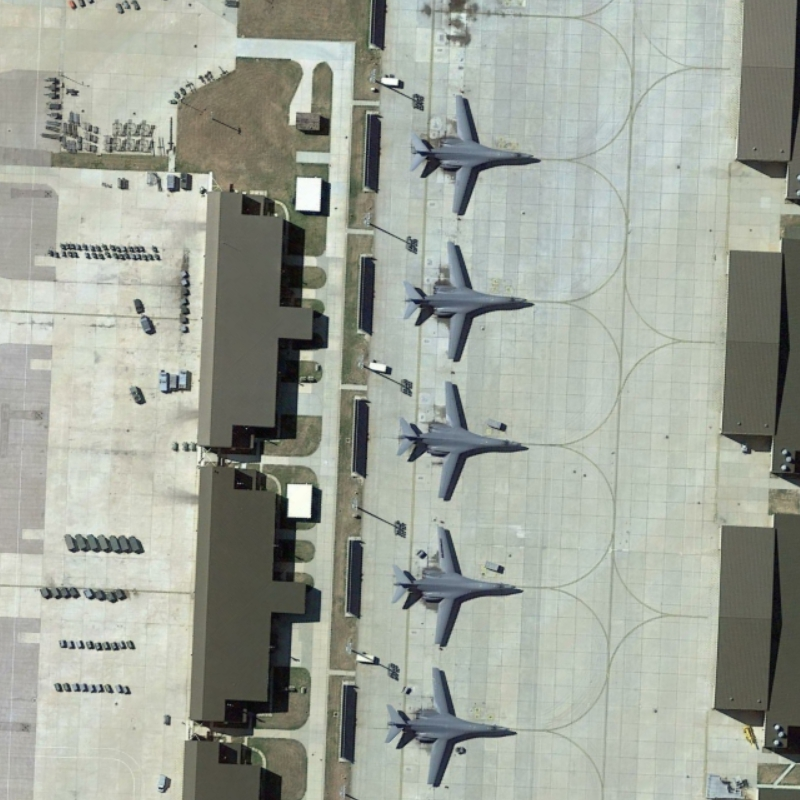A10: (396, 229, 541, 371), (378, 660, 523, 794), (408, 84, 548, 221), (385, 378, 532, 504), (388, 521, 525, 651)
